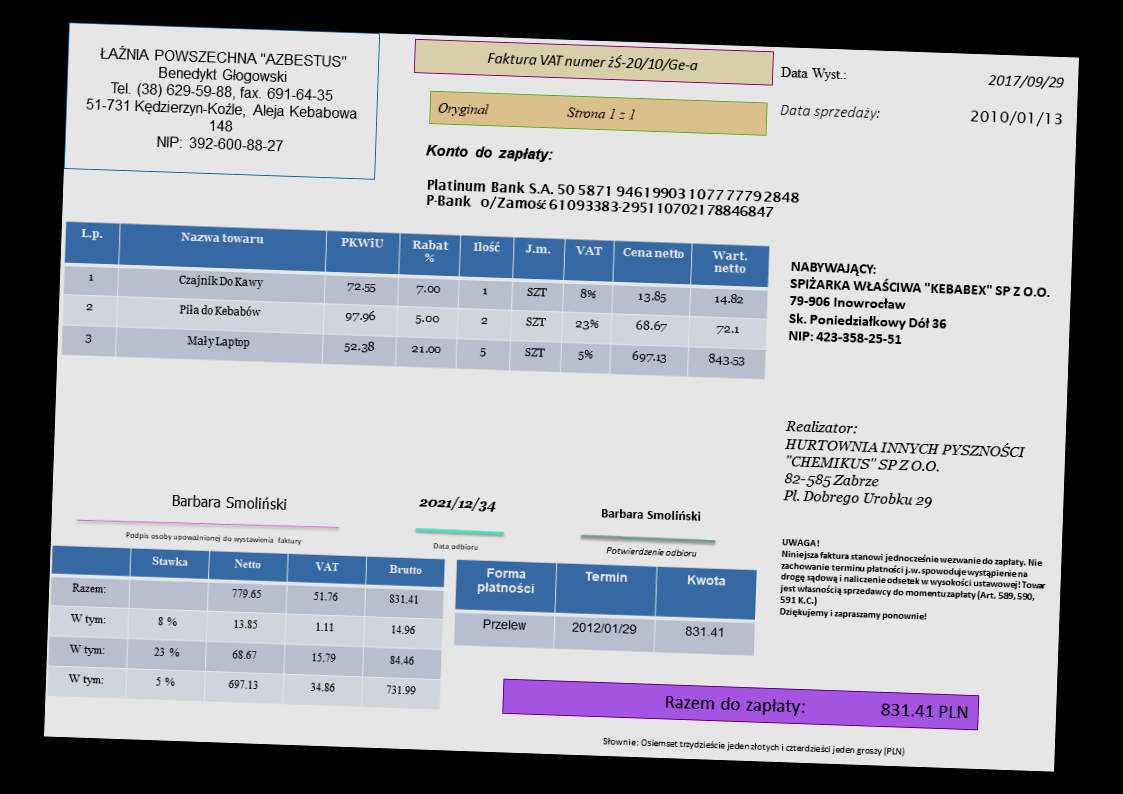Table: (60, 220, 771, 381), (46, 544, 446, 710), (452, 557, 759, 658)
TextBox: (82, 41, 362, 158), (786, 259, 1053, 353), (778, 536, 1048, 628), (781, 416, 1028, 512), (424, 175, 802, 222), (662, 691, 971, 724), (599, 734, 908, 760), (435, 99, 639, 125), (484, 49, 701, 73), (123, 528, 304, 547), (423, 140, 556, 165), (170, 491, 289, 513), (777, 101, 882, 123), (969, 107, 1063, 130), (598, 505, 703, 523), (417, 493, 498, 516), (985, 71, 1065, 91), (778, 63, 847, 85), (603, 544, 697, 559), (431, 540, 479, 552)
